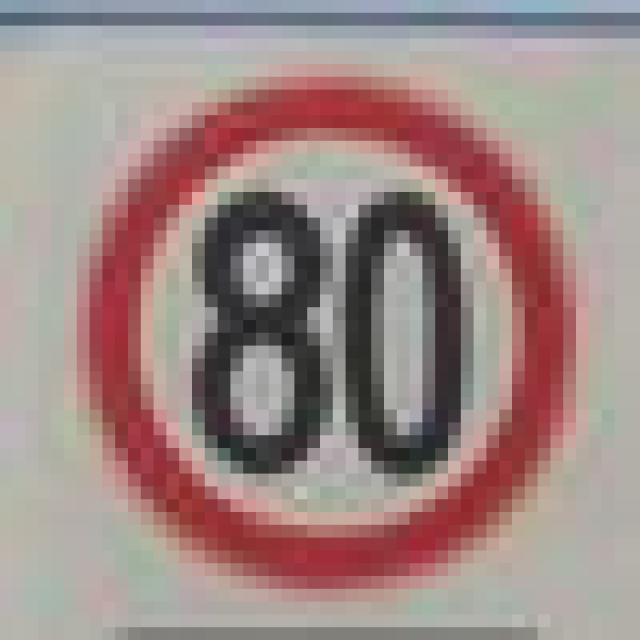SPEED_LIMIT_80: (77, 64, 576, 576)
